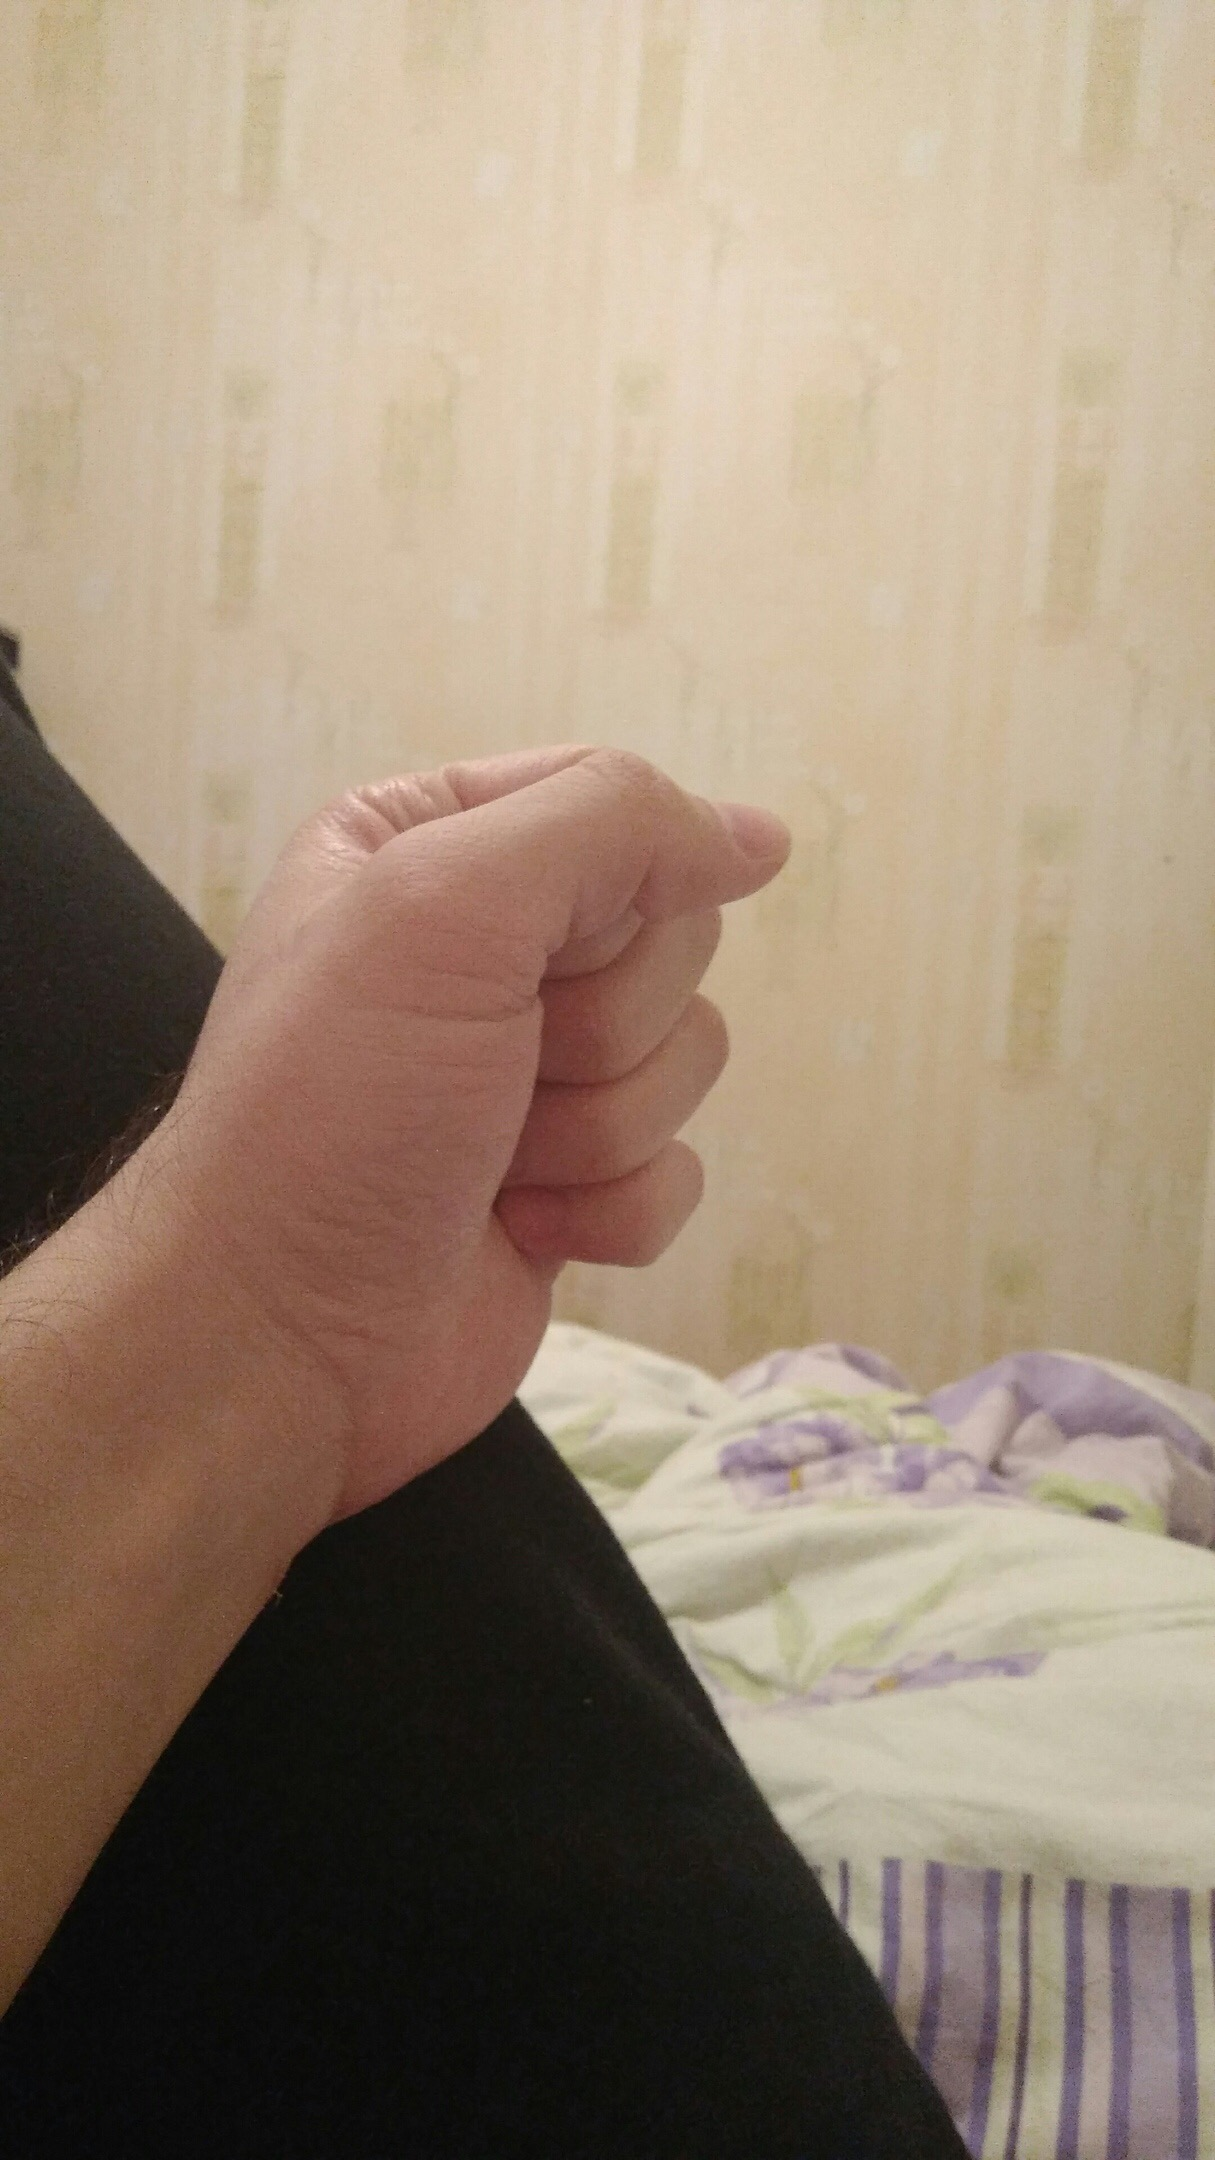hand: (337, 765, 754, 1334)
